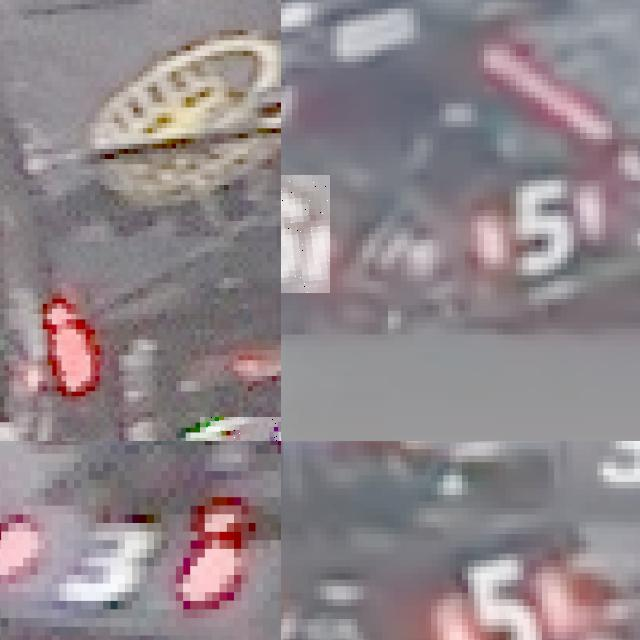R5: (425, 547, 572, 640), (484, 174, 599, 264), (281, 174, 330, 293)
